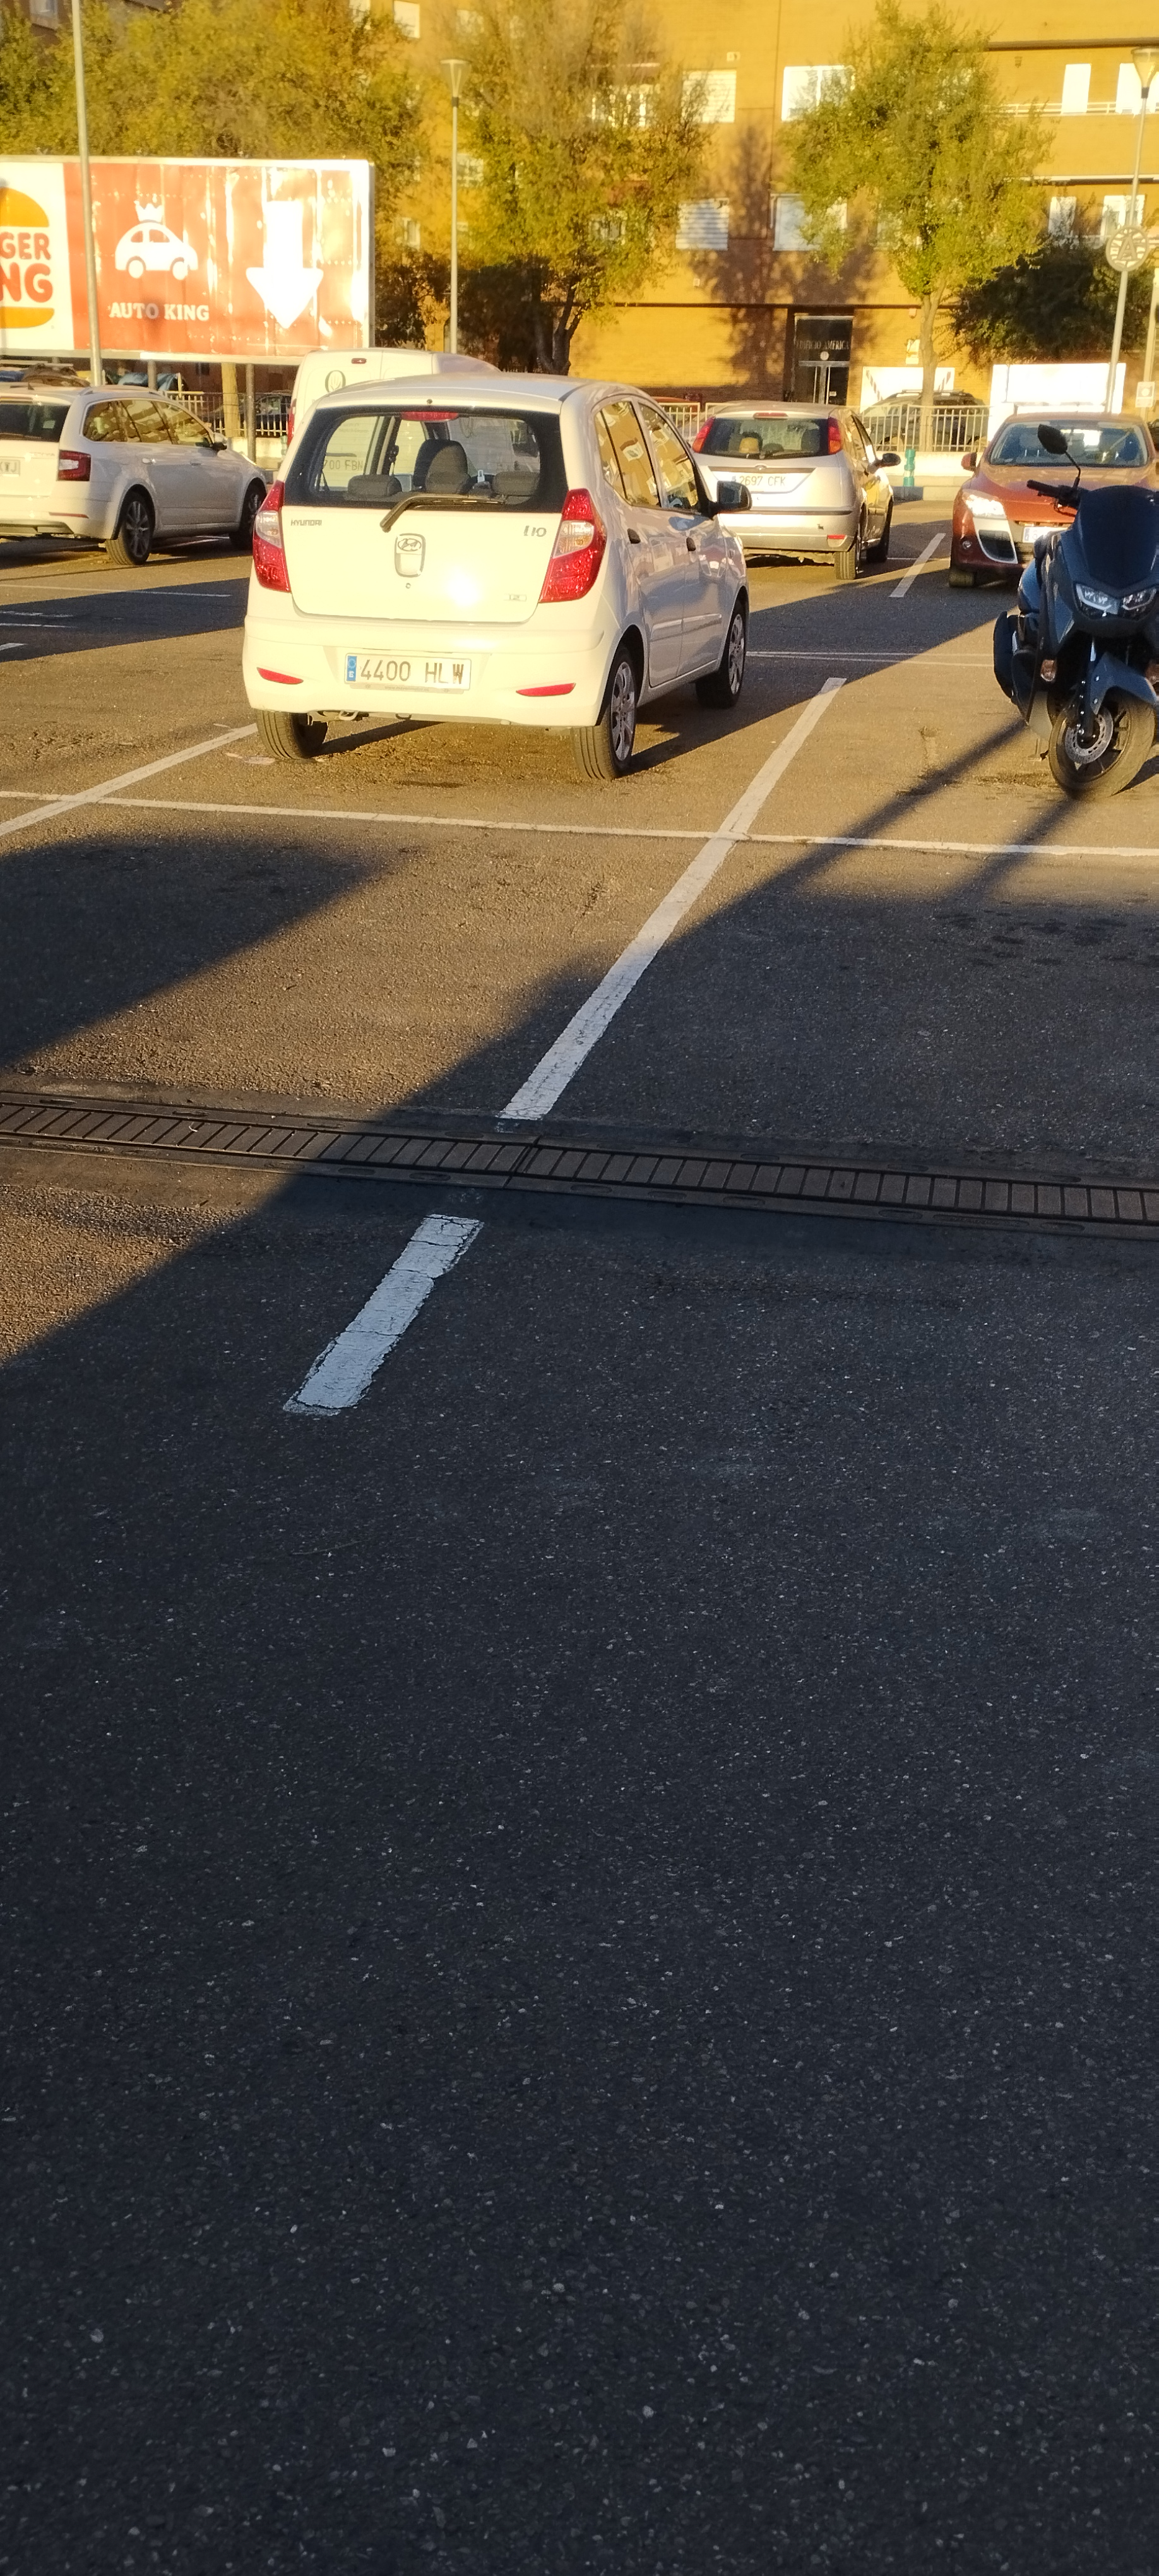Car: (242, 378, 746, 777), (0, 388, 265, 569), (693, 403, 889, 575)
Plate: (347, 648, 475, 682)
